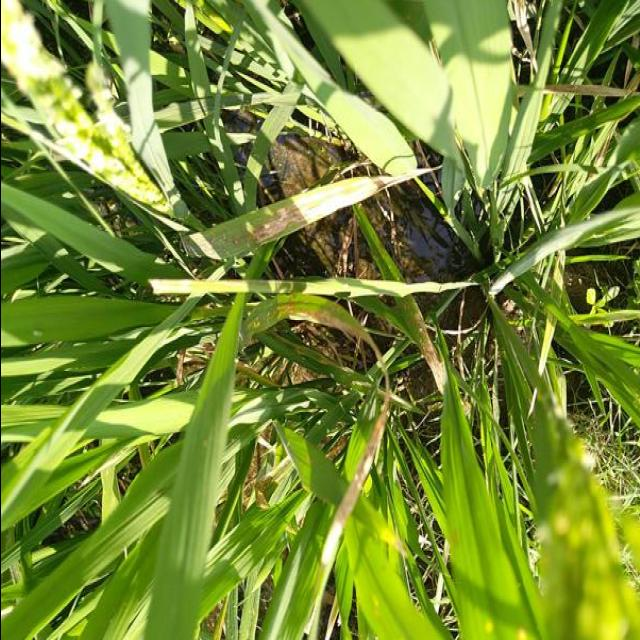Leaf Blight: (250, 295, 391, 549), (182, 167, 436, 262)
